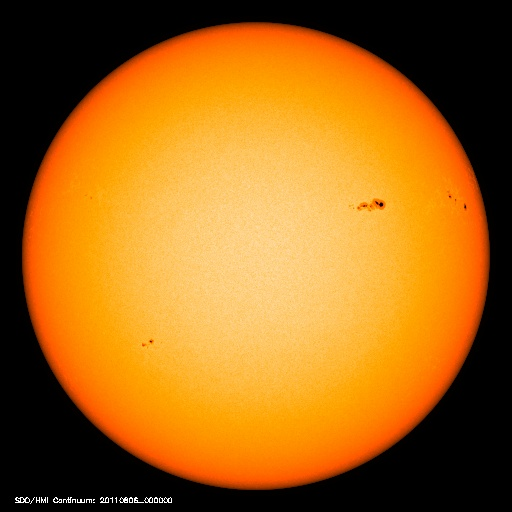sunspot: (337, 191, 397, 220), (127, 328, 171, 357), (438, 182, 472, 214)
